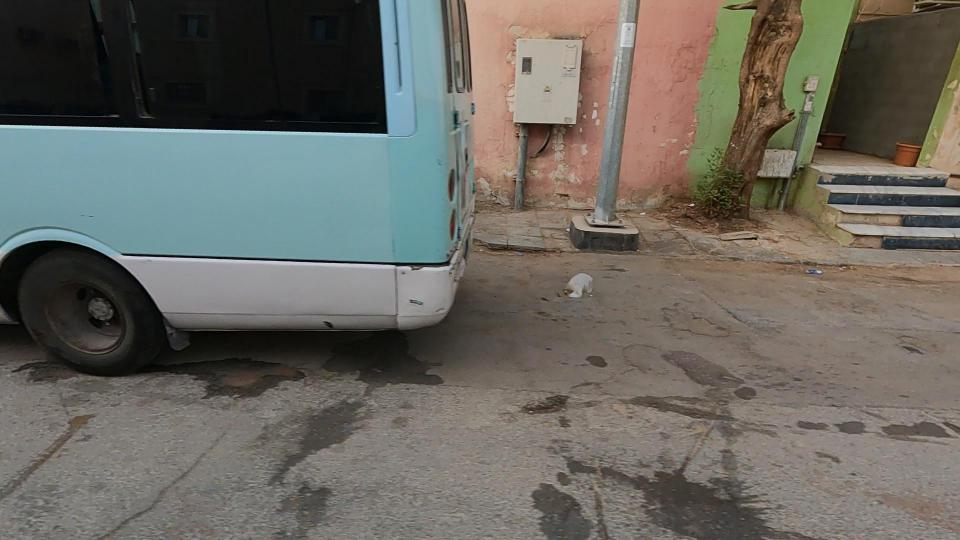GARBAGE: (537, 240, 636, 334), (774, 246, 851, 297)
